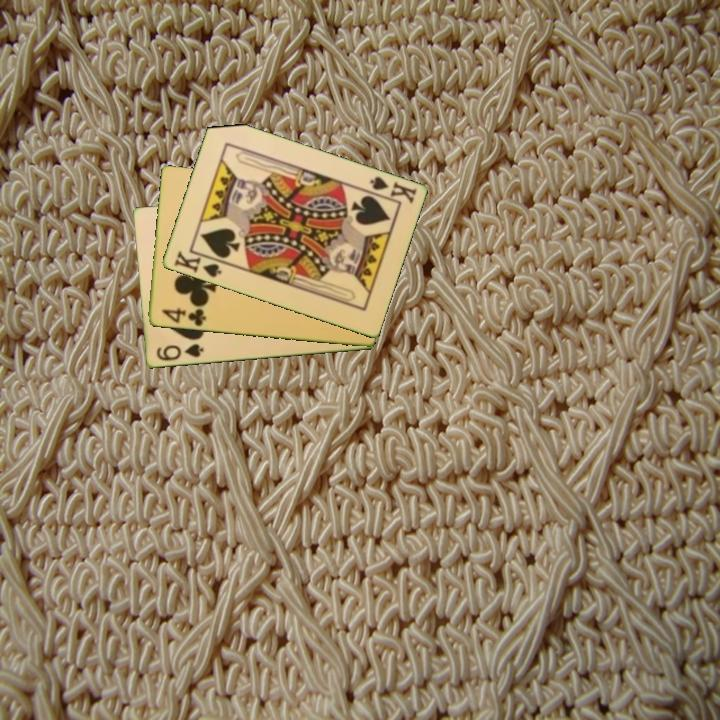4c: (158, 305, 209, 329)
6s: (153, 340, 206, 364)
Ks: (361, 173, 419, 207), (170, 247, 227, 281)
